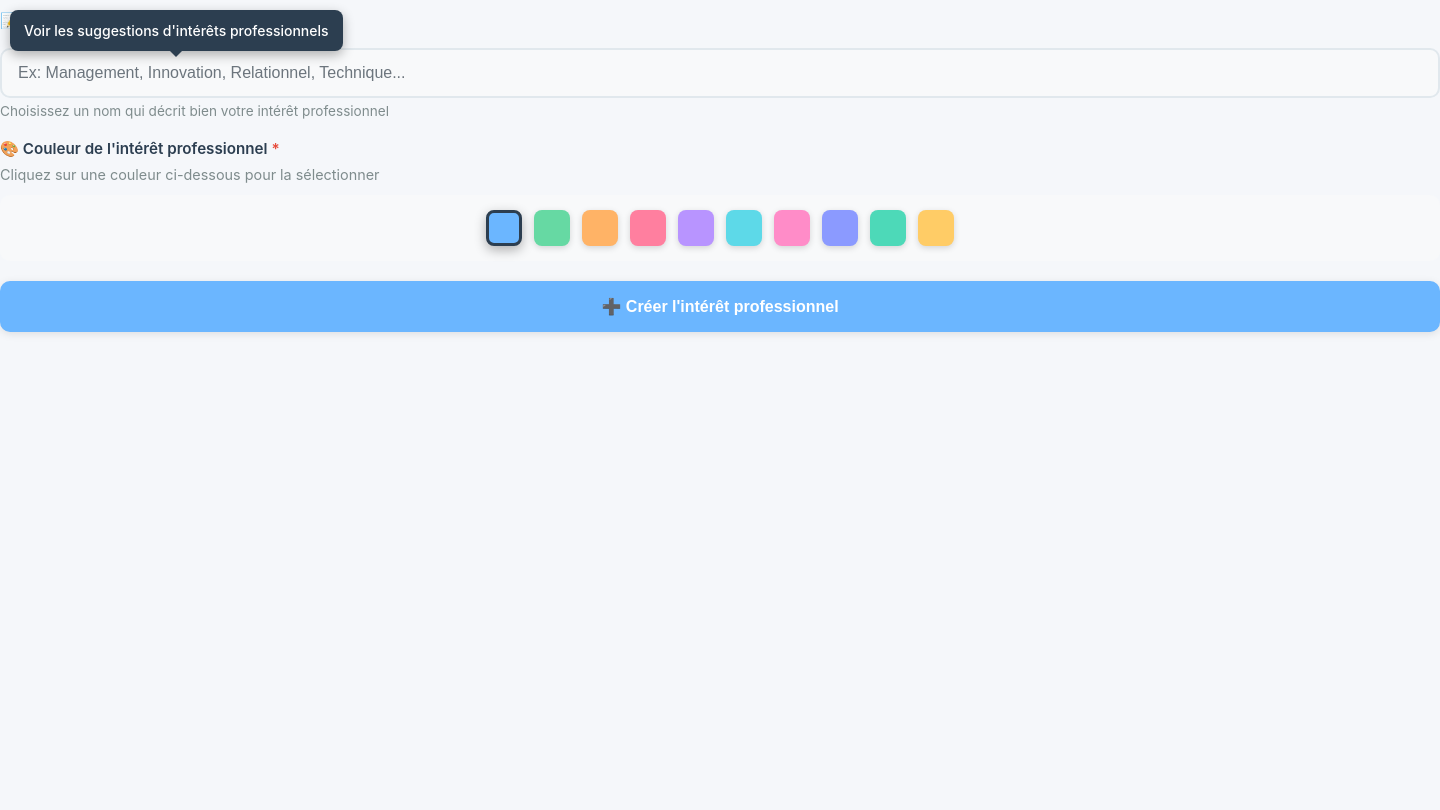
Test: CategoryForm › should open suggestions modal when icon is clicked
This screenshot has width=1440, height=810.
Click the button named "voir les suggestions": (284,20) [264,0,304,40]
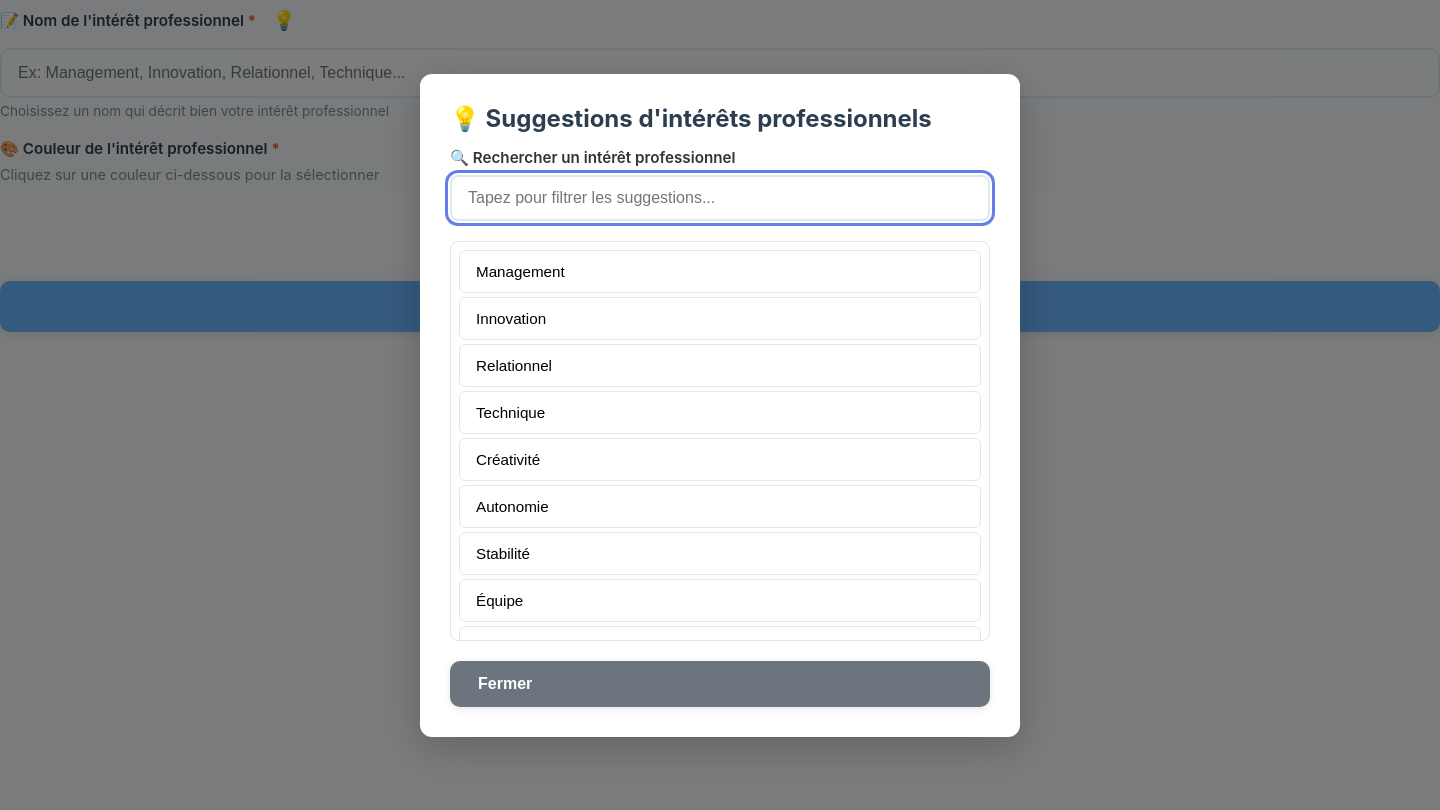
Expected: the heading "💡 Suggestions d'intérêts professionnels" is shown, [450,104,990,132]
